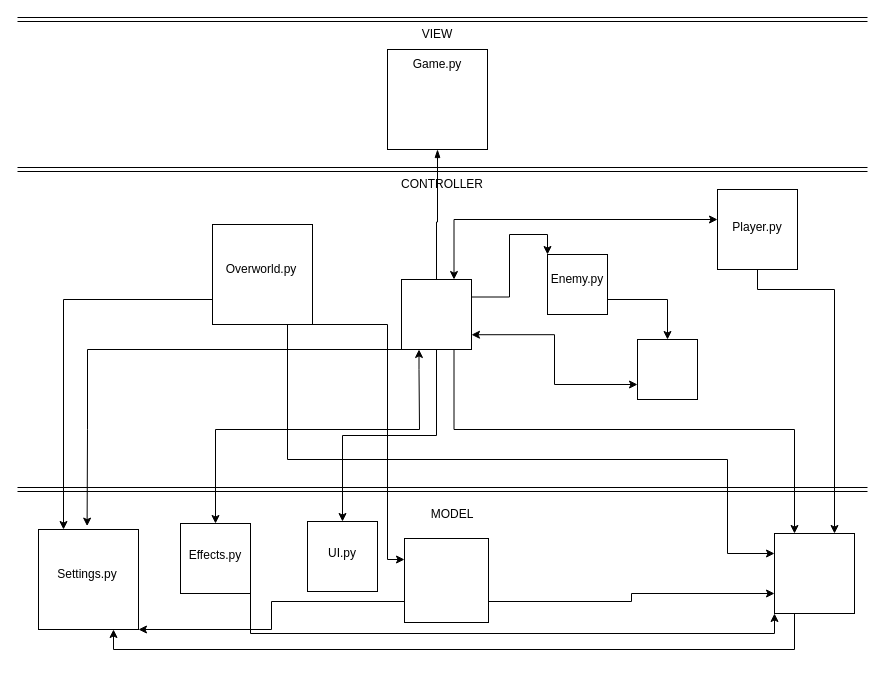
Image size: 885x675. Some labels were removed from this diagram. The box of each missing label's shape, as (x1, y1, x2, y2) in pixels:
Assets.py: (774, 532, 854, 614)
Decorations.py: (404, 538, 488, 622)
Level.py: (400, 278, 472, 350)
Tiles.py: (636, 338, 698, 400)
